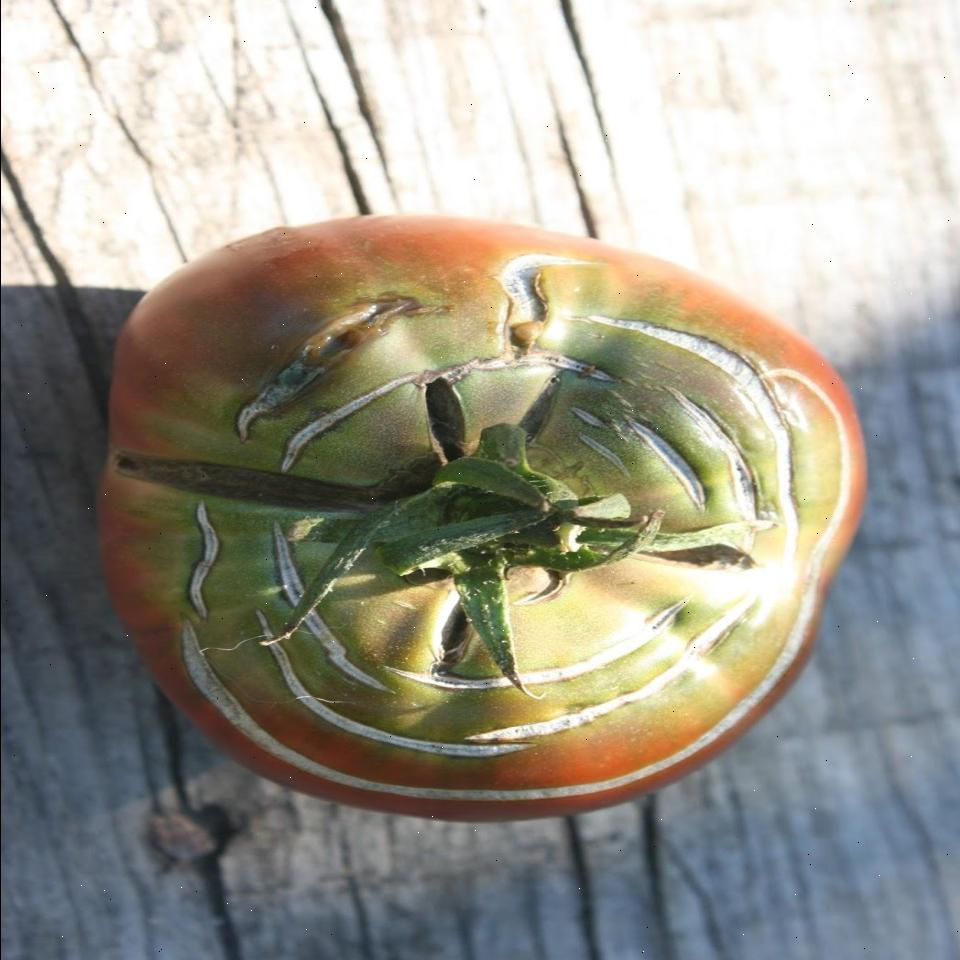Cracking: (168, 261, 854, 801)
